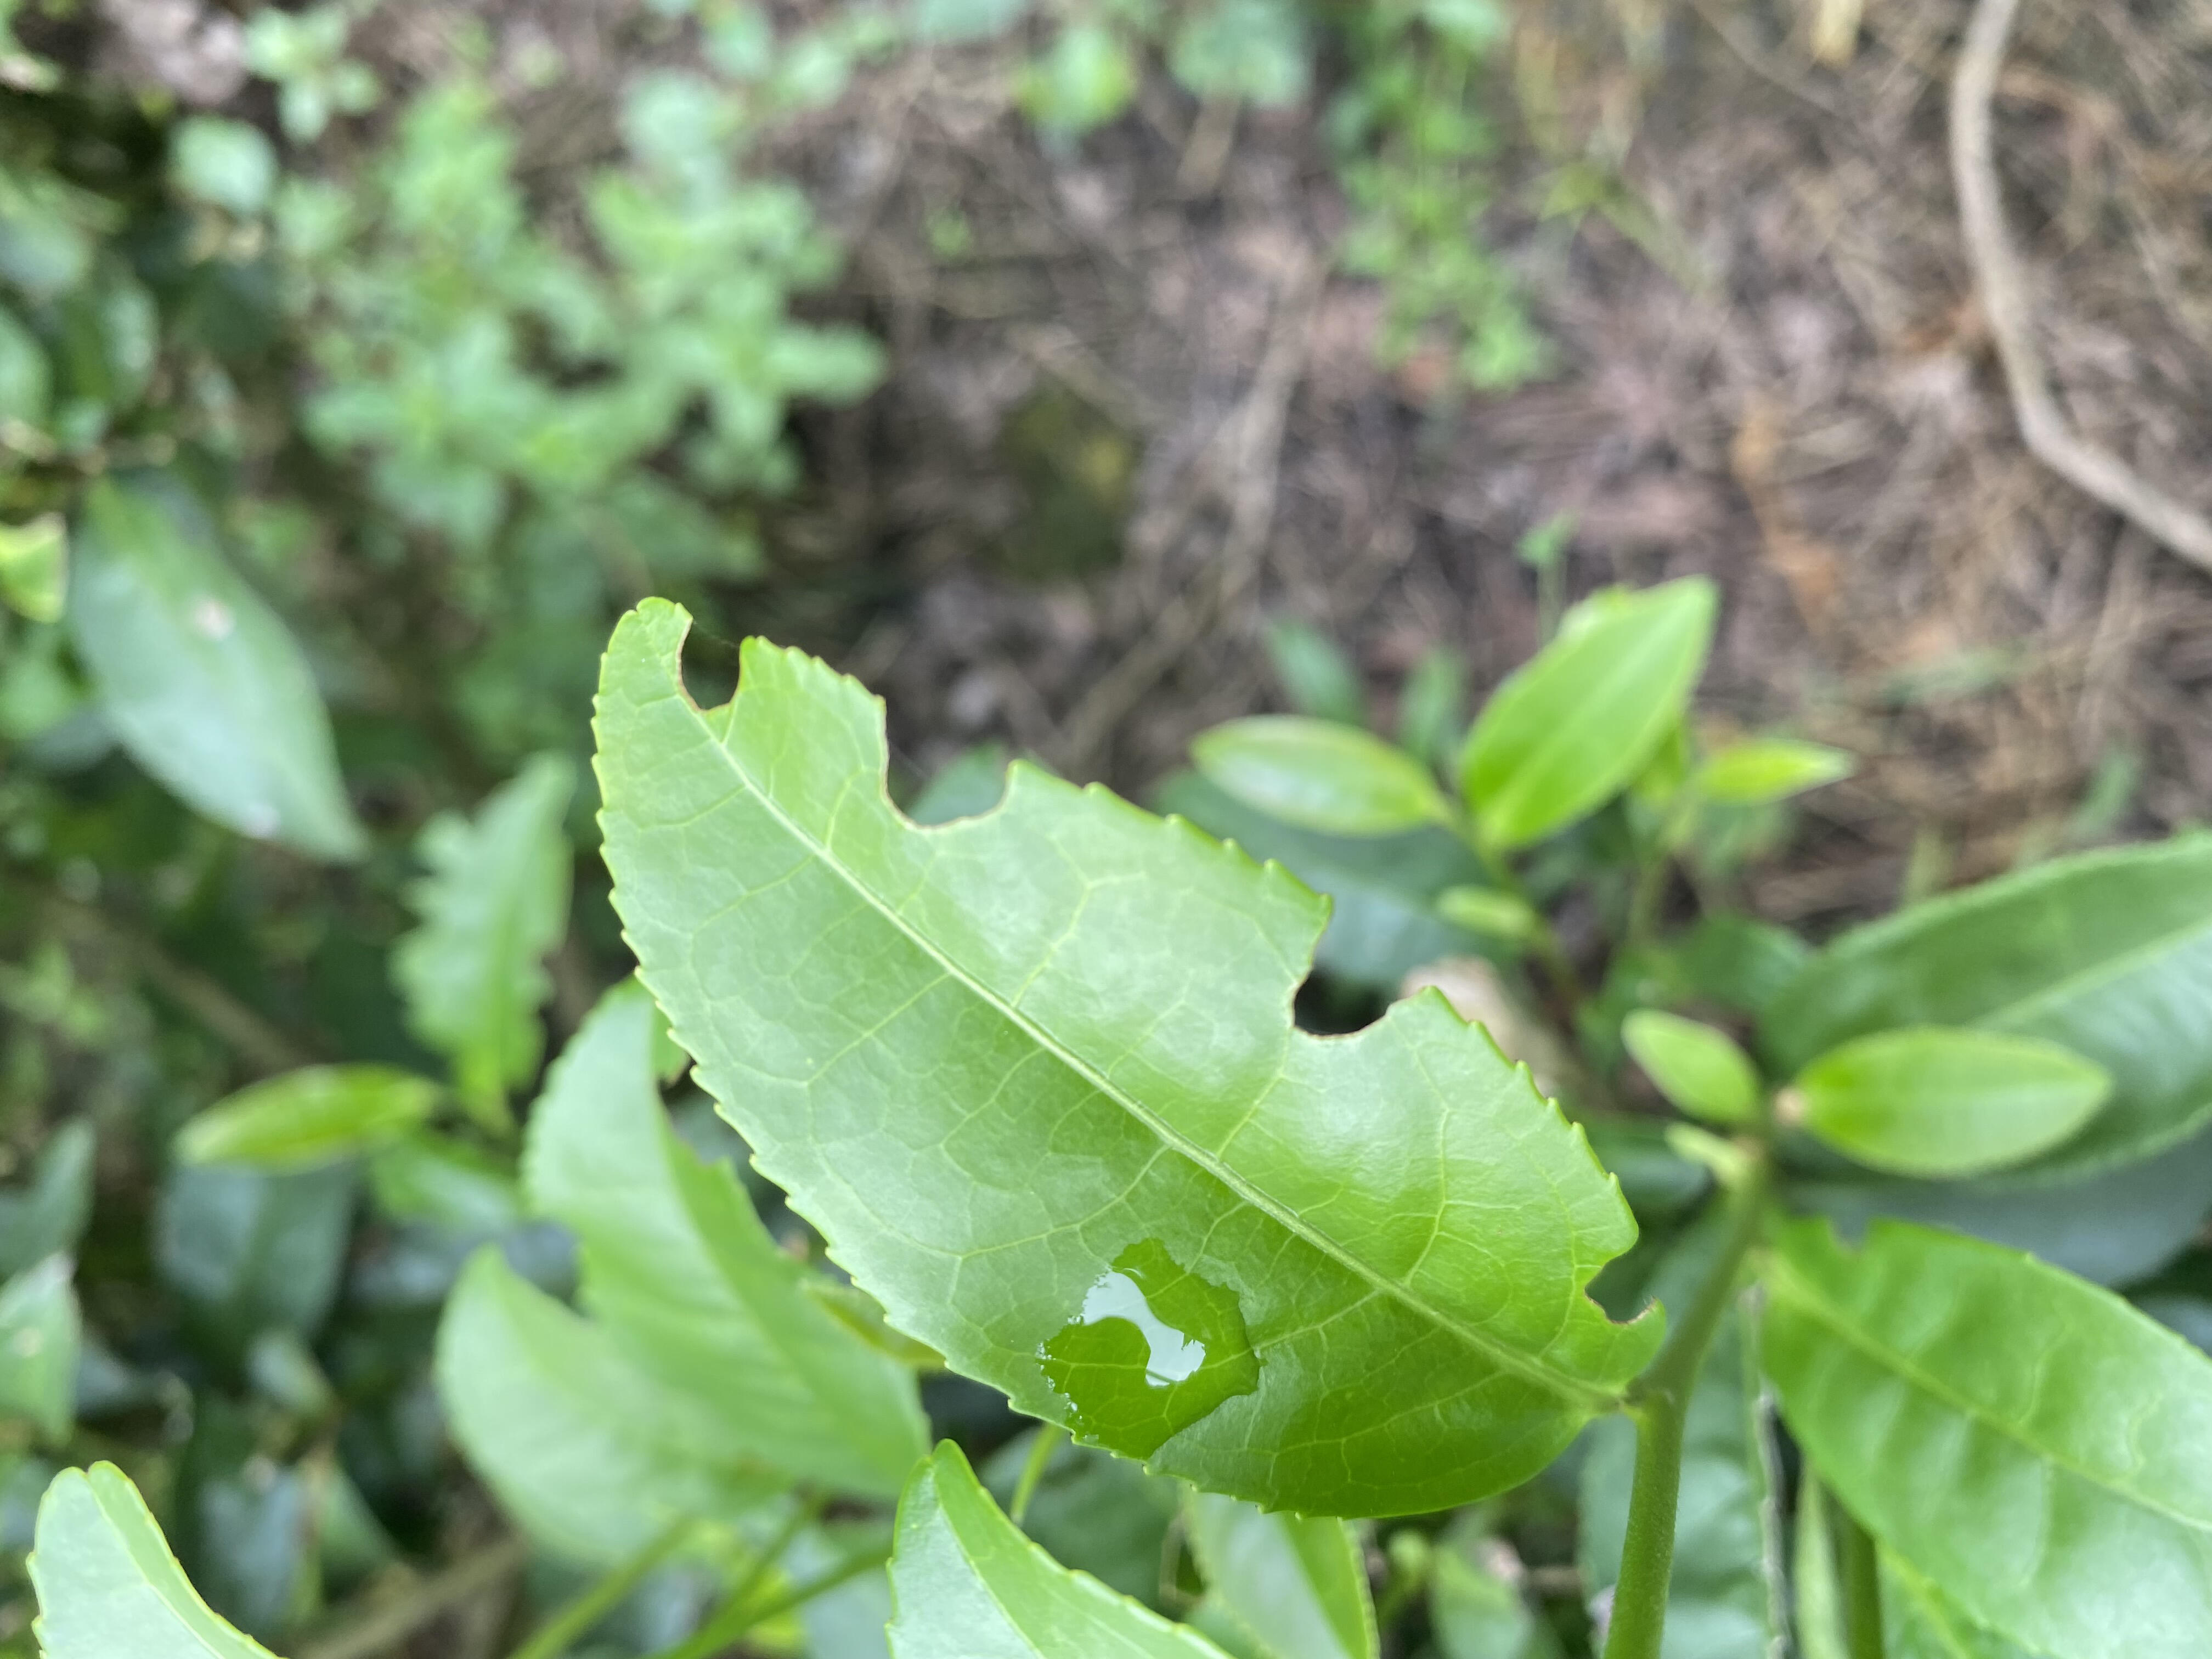chihuo_high: (590, 596, 1672, 1521)
